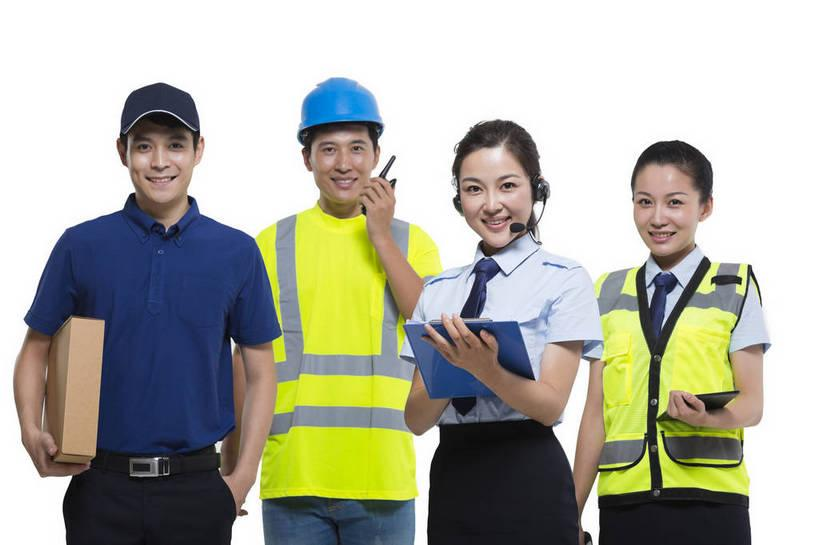helmet: (297, 80, 386, 135)
